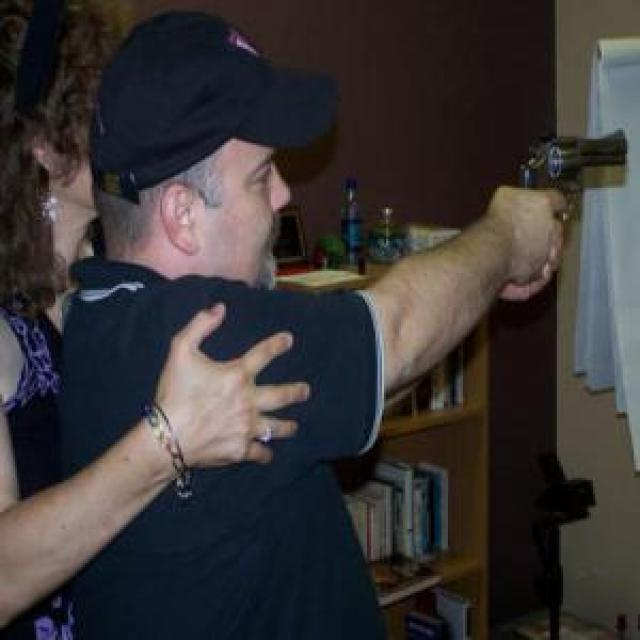pistol: (516, 128, 628, 222)
